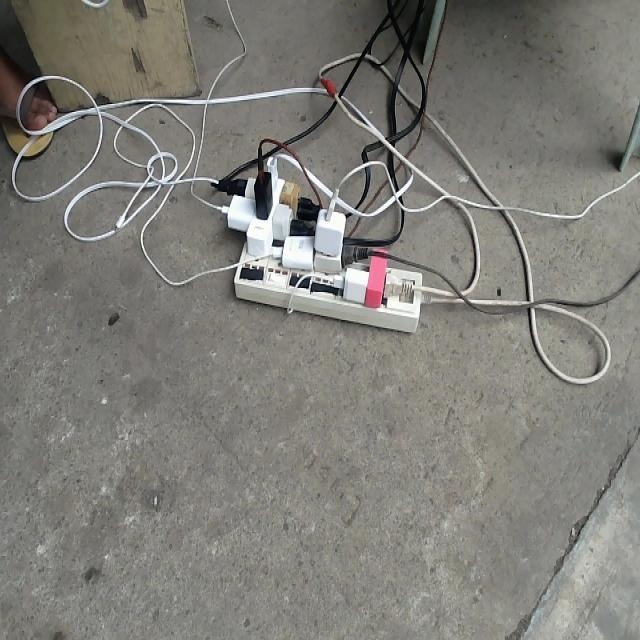-: (213, 137, 422, 332)
